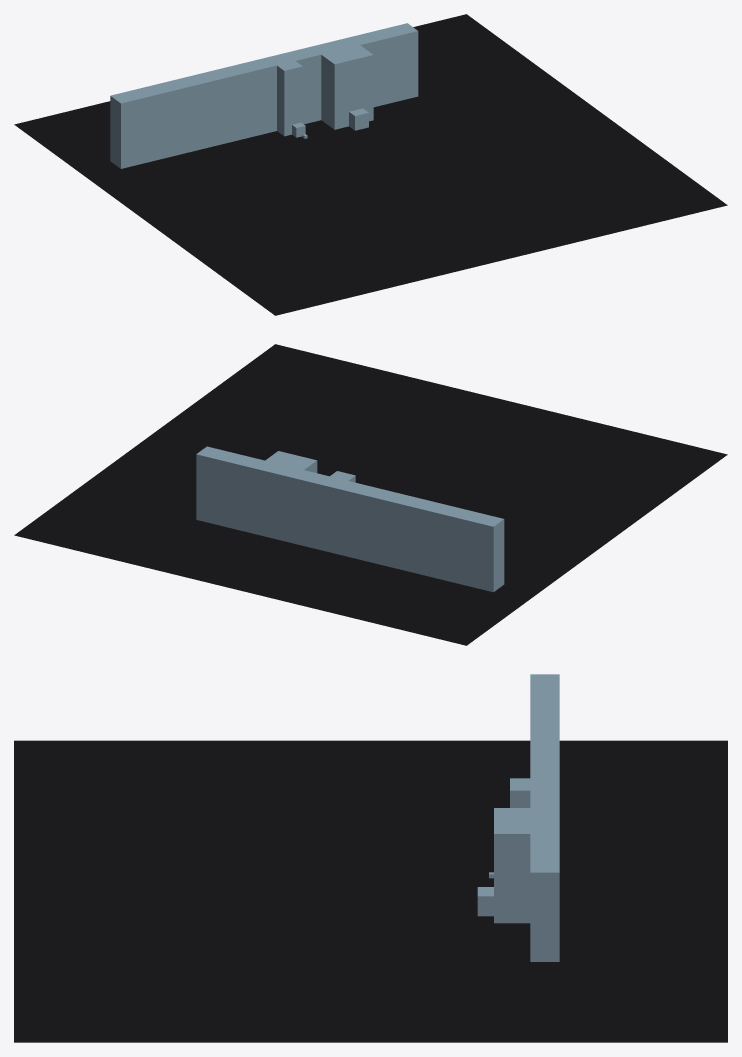
Rendered from env.glb.
3 renders of one model, top to bottom at view 1: azimuth 30°, elevation 25°; view 2: azimuth 150°, elevation 25°; view 3: azimuth 270°, elevation 25°, orthographic. The views are drawn at different scales.
Visible parts, largest first — view 1: floor, wall1, pillar2, pillar1; view 2: floor, wall1, pillar2; view 3: floor, wall1, pillar2, pillar1.
Boxes of the visible parts, box(x1,y1,x2,y2) form: floor: box(14, 14, 727, 315); wall1: box(110, 23, 418, 168); pillar2: box(313, 39, 373, 129); pillar1: box(274, 58, 302, 136); floor: box(14, 344, 727, 645); wall1: box(196, 446, 504, 592); pillar2: box(256, 451, 317, 476); floor: box(14, 740, 727, 1042); wall1: box(530, 674, 559, 961); pillar2: box(494, 808, 554, 923); pillar1: box(510, 778, 539, 807).
Size of the model in its own units: 48.62 by 9.23 by 48.62.
